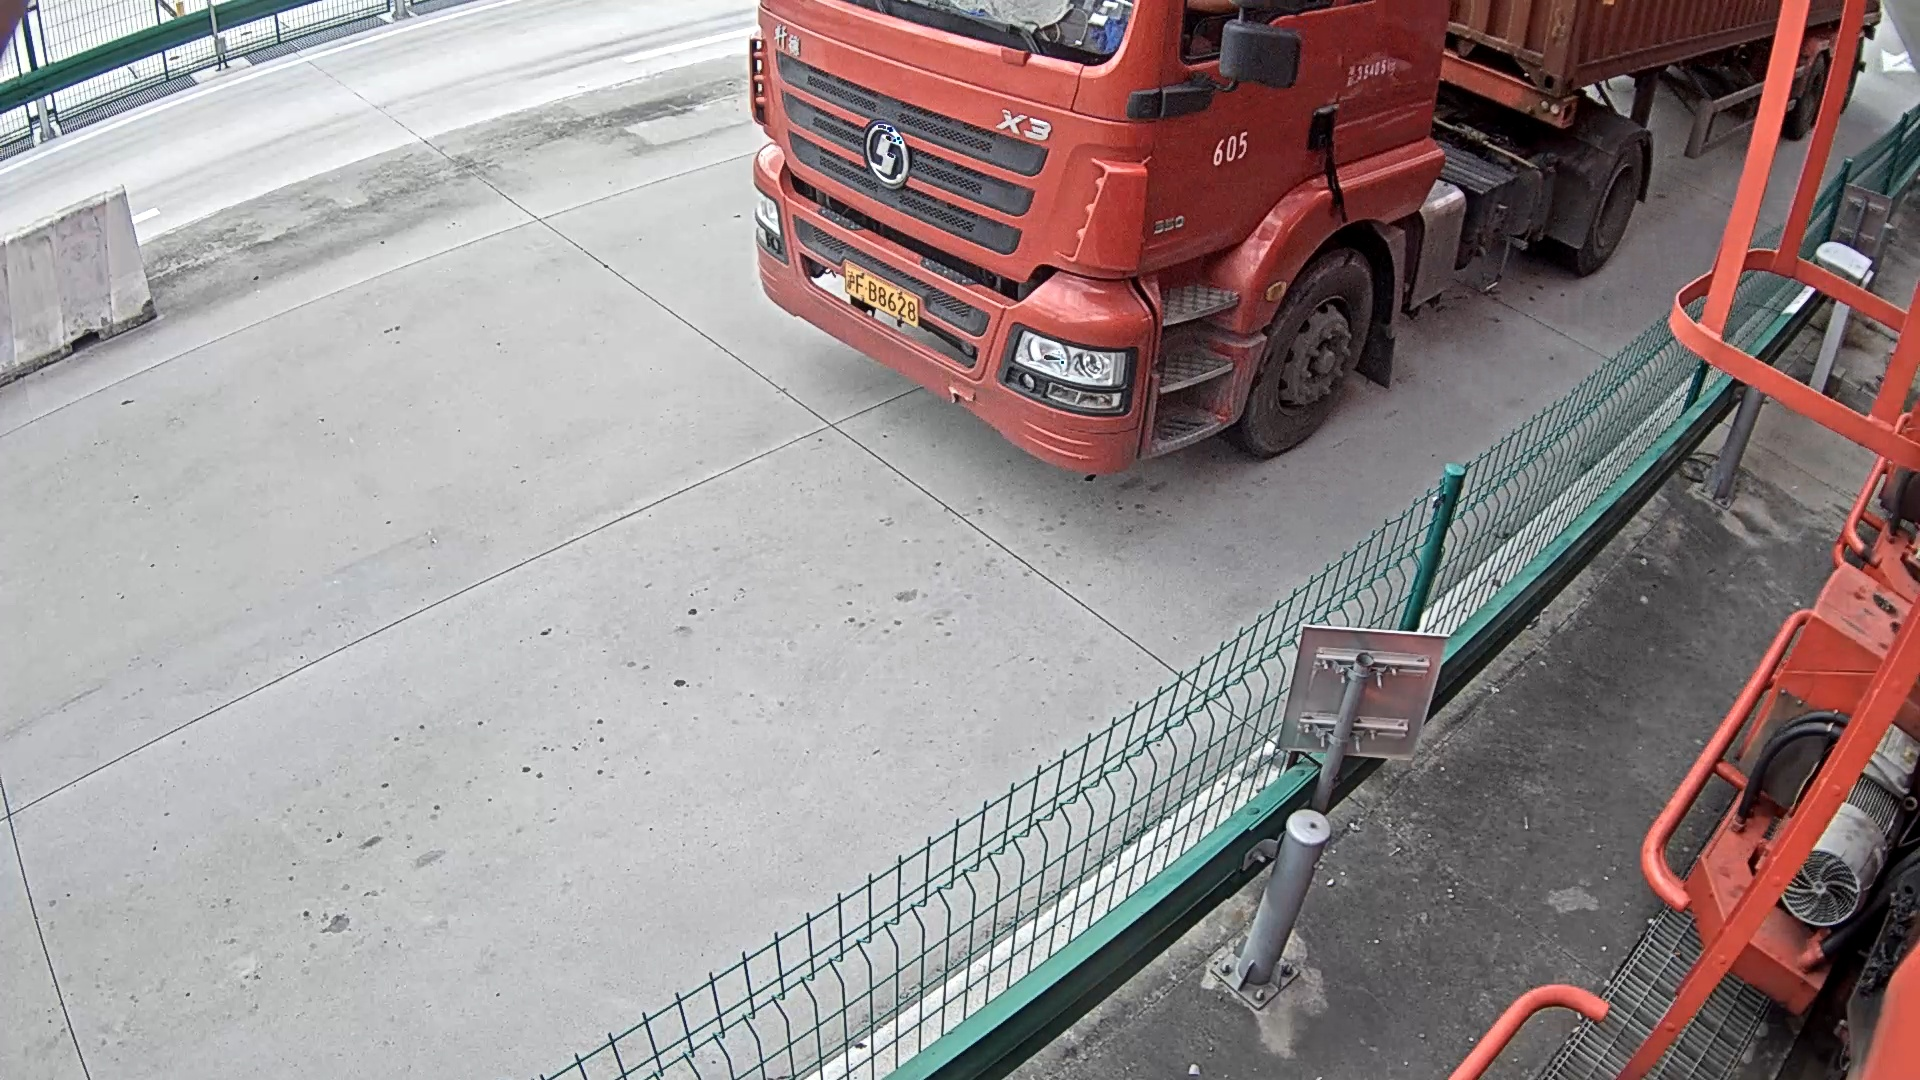head: (751, 1, 1463, 470)
plate: (845, 265, 918, 326)
